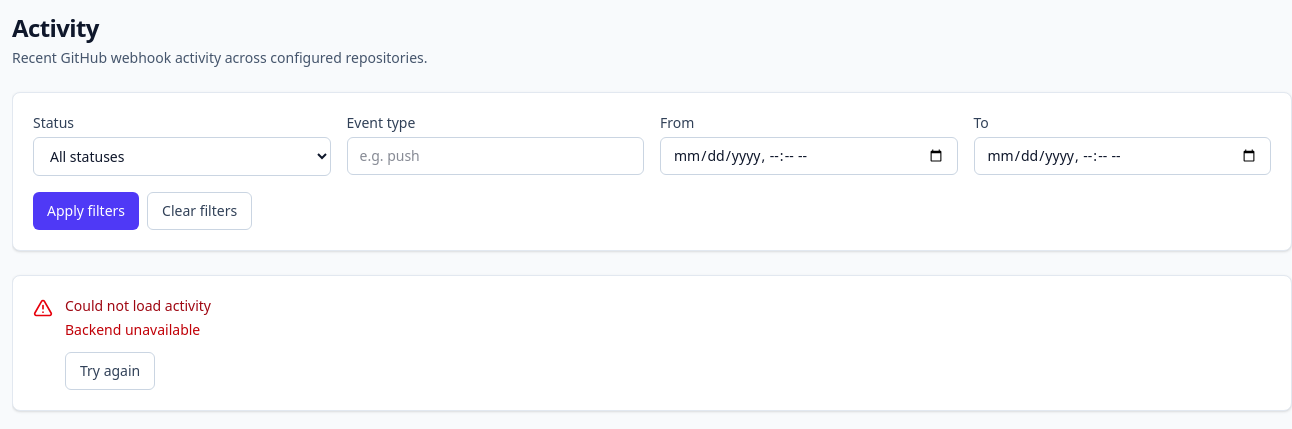
Scenario: ActivityPage › shows an API error and retries the query
This screenshot has width=1292, height=429.
Expected: the message shows "Backend unavailable", [65, 320, 200, 339]
Click the button "Try again". click: [110, 371]
box: [65, 352, 155, 390]
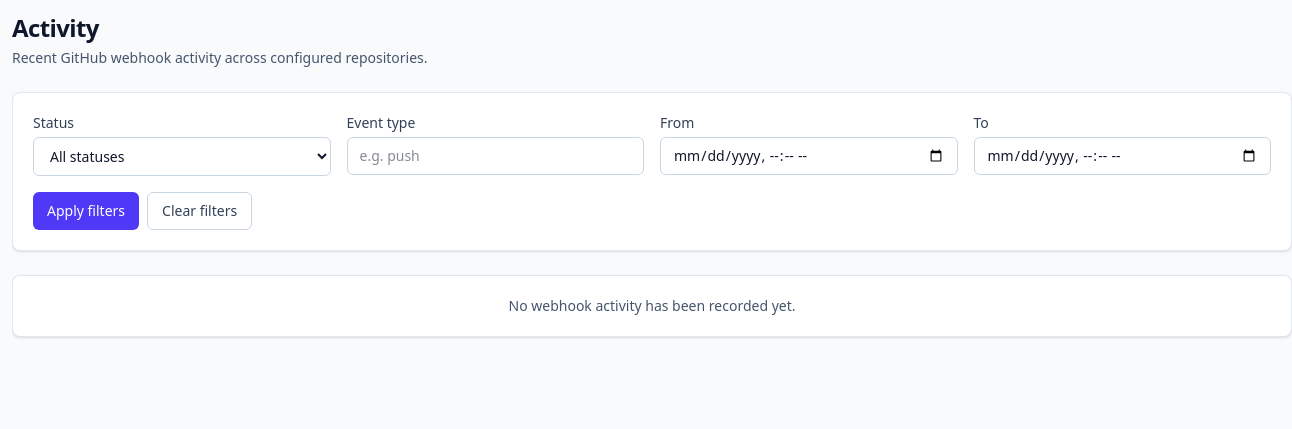
Expected: the text "No webhook activity has been recorded yet." is shown, [12, 275, 1291, 337]
